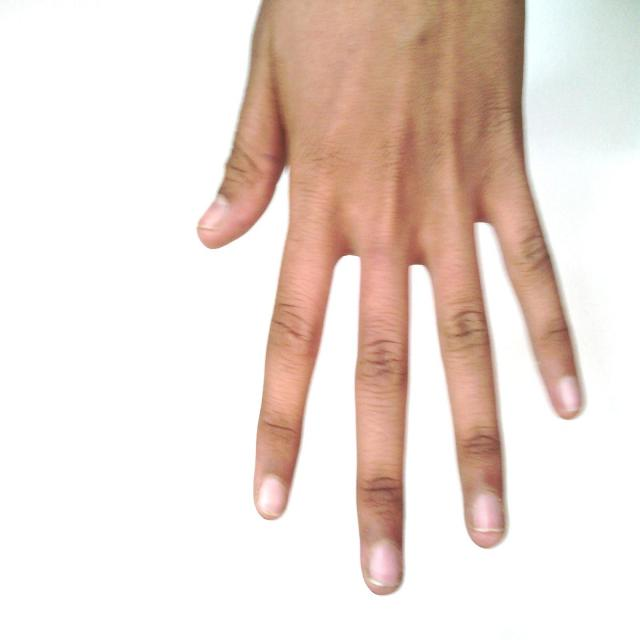others: (188, 1, 585, 595)
